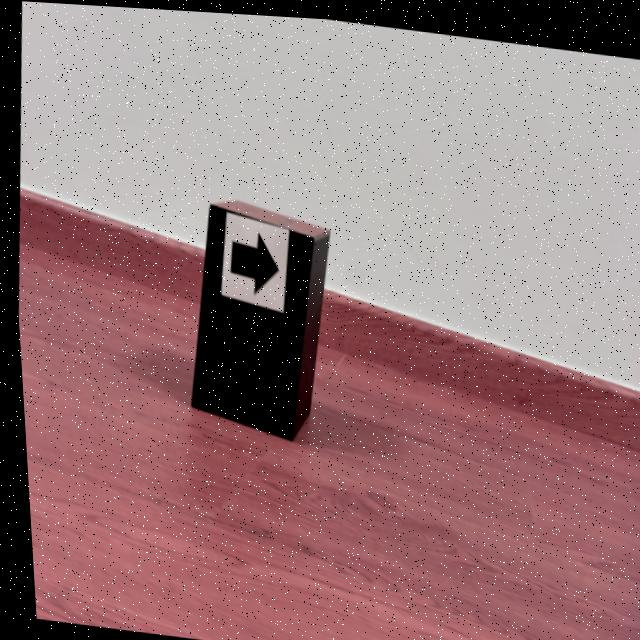RIGHT: (227, 229, 275, 290)
